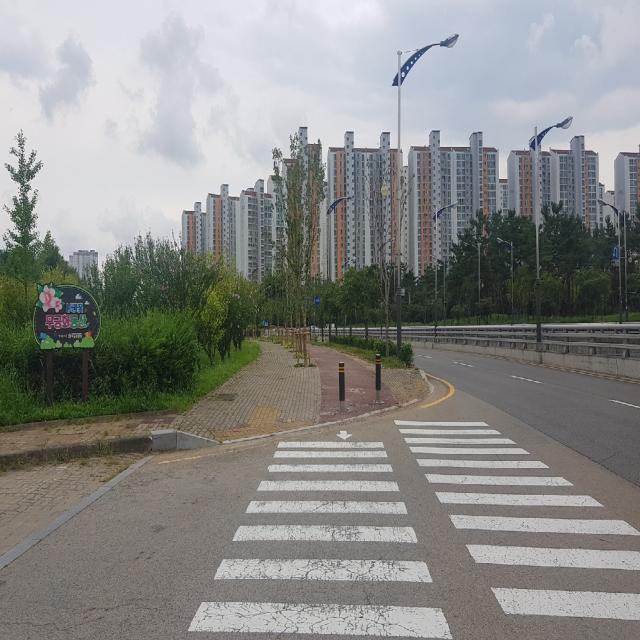횡단보도: (188, 420, 640, 640)
